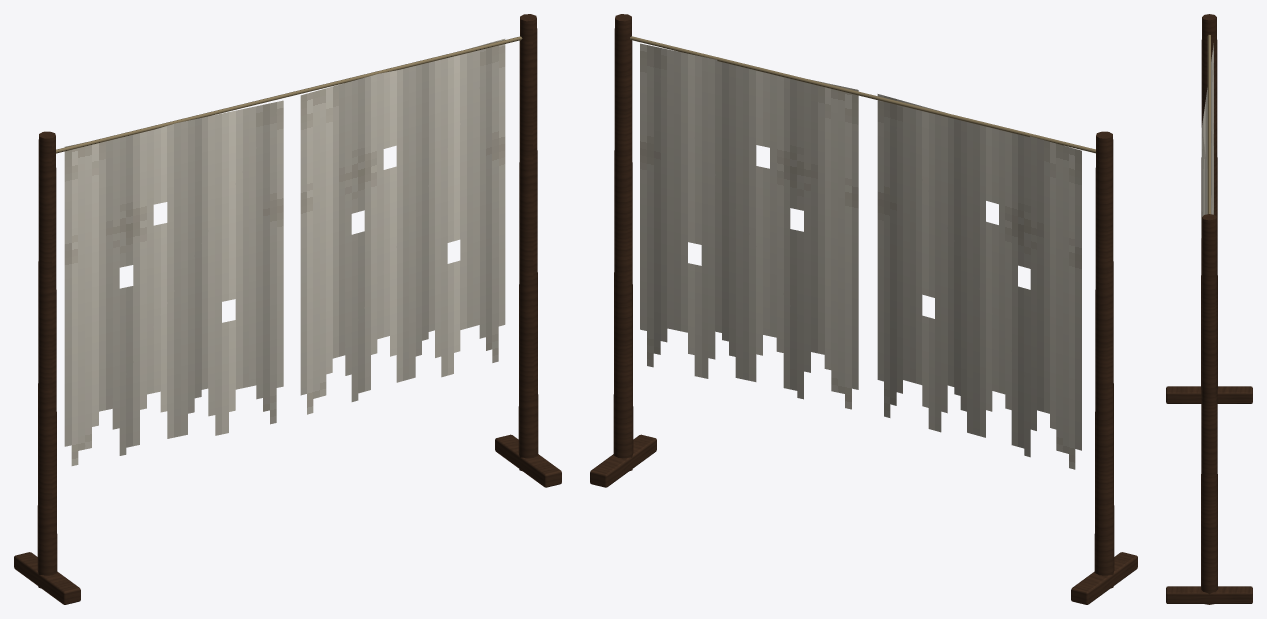
File: dryingLine.glb
3 renders of one model, left to right at view 1: azimuth 30°, elevation 25°; view 2: azimuth 150°, elevation 25°; view 3: azimuth 270°, elevation 25°, orthographic. The views are drawn at different scales.
Parts seen in each view (by area): view 1: dryingLine; view 2: dryingLine; view 3: dryingLine.
Part boxes in pixels (x1,y1,x2,y2): dryingLine: (14,14,561,604); dryingLine: (590,14,1137,604); dryingLine: (1166,14,1252,604).
Bounding box in the file's own units: 2.26 × 1.95 × 0.4004.
3 materials, 2 textured.
